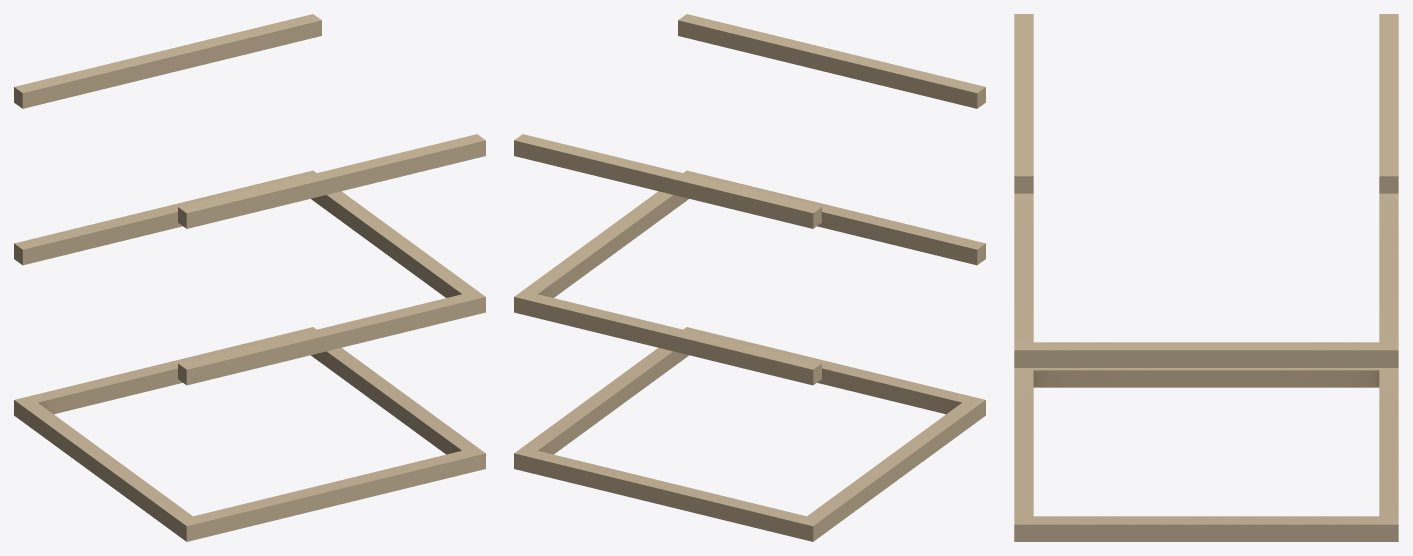
File: ring.glb
3 renders of one model, left to right at view 1: azimuth 30°, elevation 25°; view 2: azimuth 150°, elevation 25°; view 3: azimuth 270°, elevation 25°, orthographic. The views are drawn at different scales.
Parts seen in each view (by area): view 1: Deco_ring_4, Deco_ring_3, Deco_ring_2; view 2: Deco_ring_4, Deco_ring_3, Deco_ring_2; view 3: Deco_ring_4, Deco_ring_3, Deco_ring_2.
Boxes of the visible parts, box(x1,y1,x2,y2) form: Deco_ring_4: box(14, 327, 485, 541); Deco_ring_3: box(14, 170, 485, 385); Deco_ring_2: box(14, 14, 485, 228); Deco_ring_4: box(514, 327, 985, 541); Deco_ring_3: box(514, 170, 985, 385); Deco_ring_2: box(514, 14, 985, 228); Deco_ring_4: box(1014, 368, 1398, 541); Deco_ring_3: box(1014, 193, 1398, 367); Deco_ring_2: box(1014, 14, 1398, 193).
Bounding box in the file's own units: 20 × 21 × 20.
Materials: 3 (3 with a texture image).
